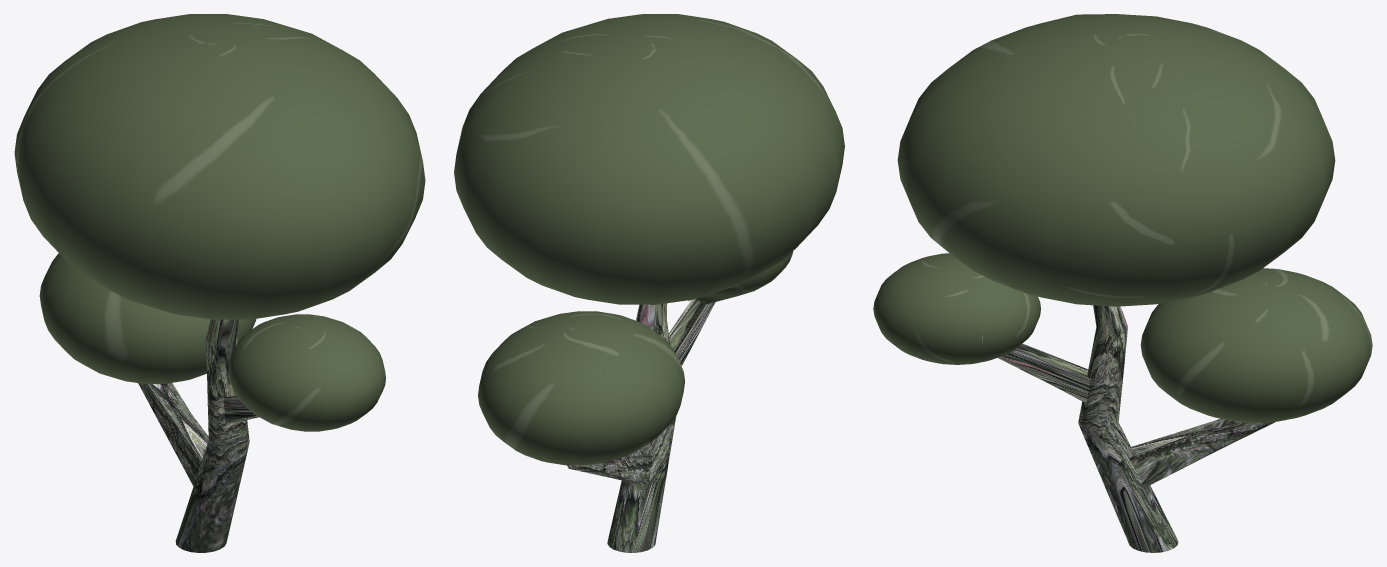
Rendered from SM_tree.fbx.
The picture shows the model from 3 angles, left to right: view 1: azimuth 30°, elevation 25°; view 2: azimuth 150°, elevation 25°; view 3: azimuth 270°, elevation 25°; orthographic projection. The views are drawn at different scales.
Parts seen in each view (by area): view 1: pCylinder2; view 2: pCylinder2; view 3: pCylinder2.
Boxes of the visible parts, x1,y1,x2,y2 form: pCylinder2: (14, 14, 425, 552); pCylinder2: (454, 14, 844, 552); pCylinder2: (873, 14, 1372, 552).
Bounding box in the file's own units: 15.64 × 22.12 × 19.91.
